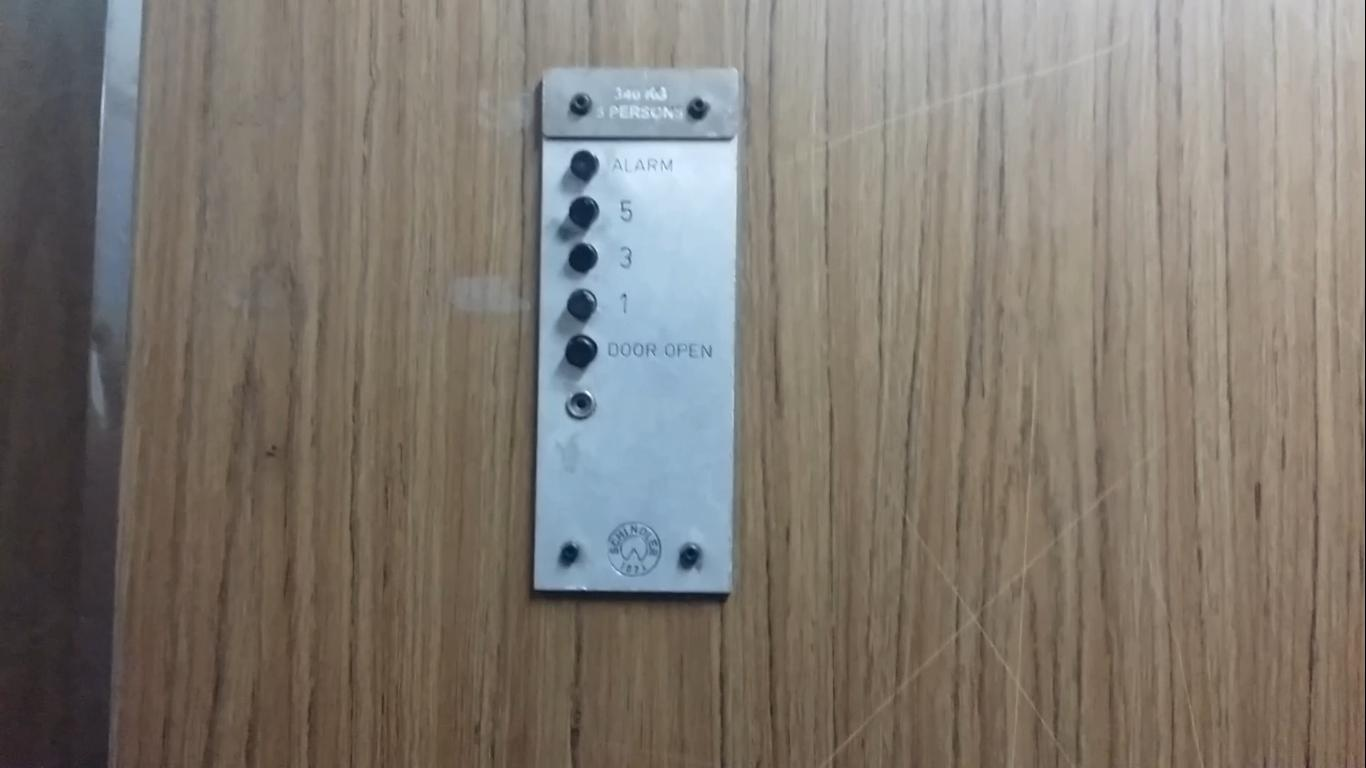empty: (564, 333, 599, 369), (568, 148, 600, 183), (567, 240, 599, 274), (568, 195, 600, 228), (565, 289, 595, 319)
indicator: (564, 388, 597, 421)
